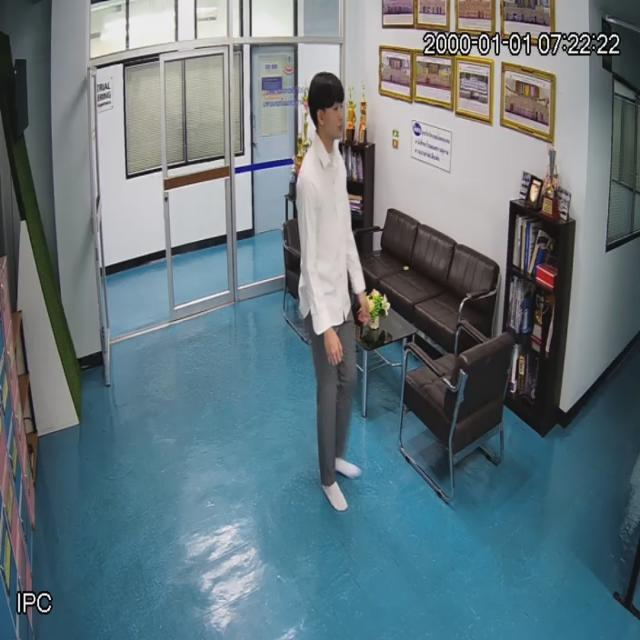normal: (292, 69, 368, 523)
